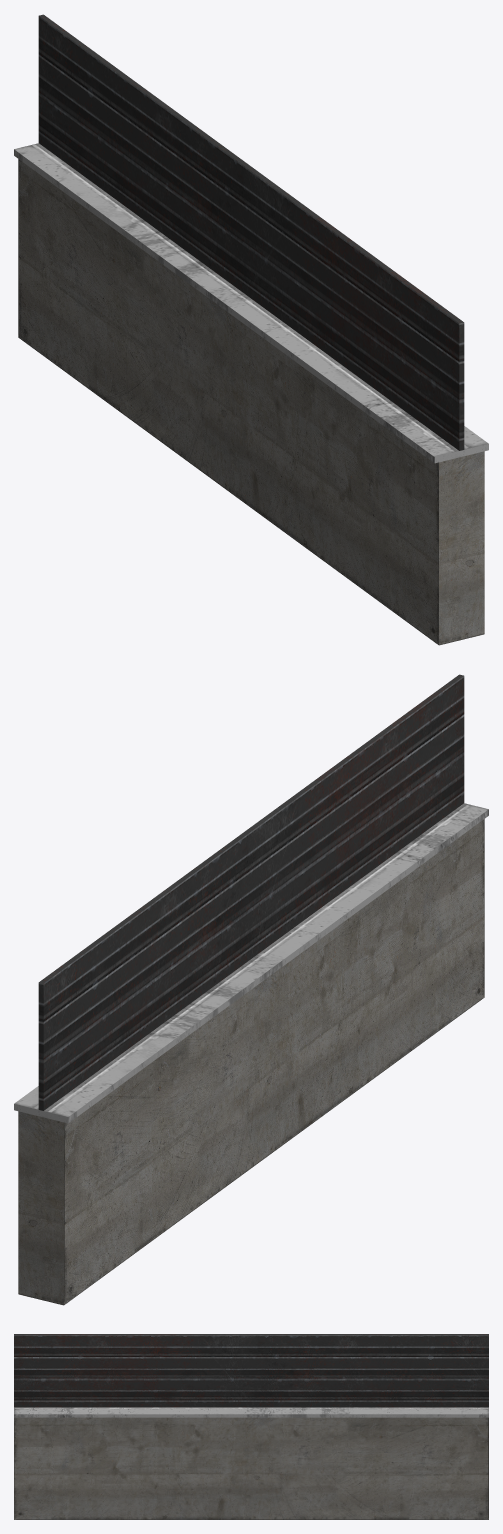
Rendered from CP_Parapet_C_4m.fbx.
3 views of the same model, one above another, from view 1: azimuth 30°, elevation 25°; view 2: azimuth 150°, elevation 25°; view 3: azimuth 270°, elevation 25° (orthographic). The views are drawn at different scales.
Visible parts, largest first — view 1: CP_Parapet_C_4m; view 2: CP_Parapet_C_4m; view 3: CP_Parapet_C_4m.
Boxes of the visible parts, x1,y1,x2,y2 form: CP_Parapet_C_4m: (14,14,488,645); CP_Parapet_C_4m: (14,674,488,1305); CP_Parapet_C_4m: (14,1334,488,1519).
Size of the model in its own units: 29.88 by 166 by 400.
